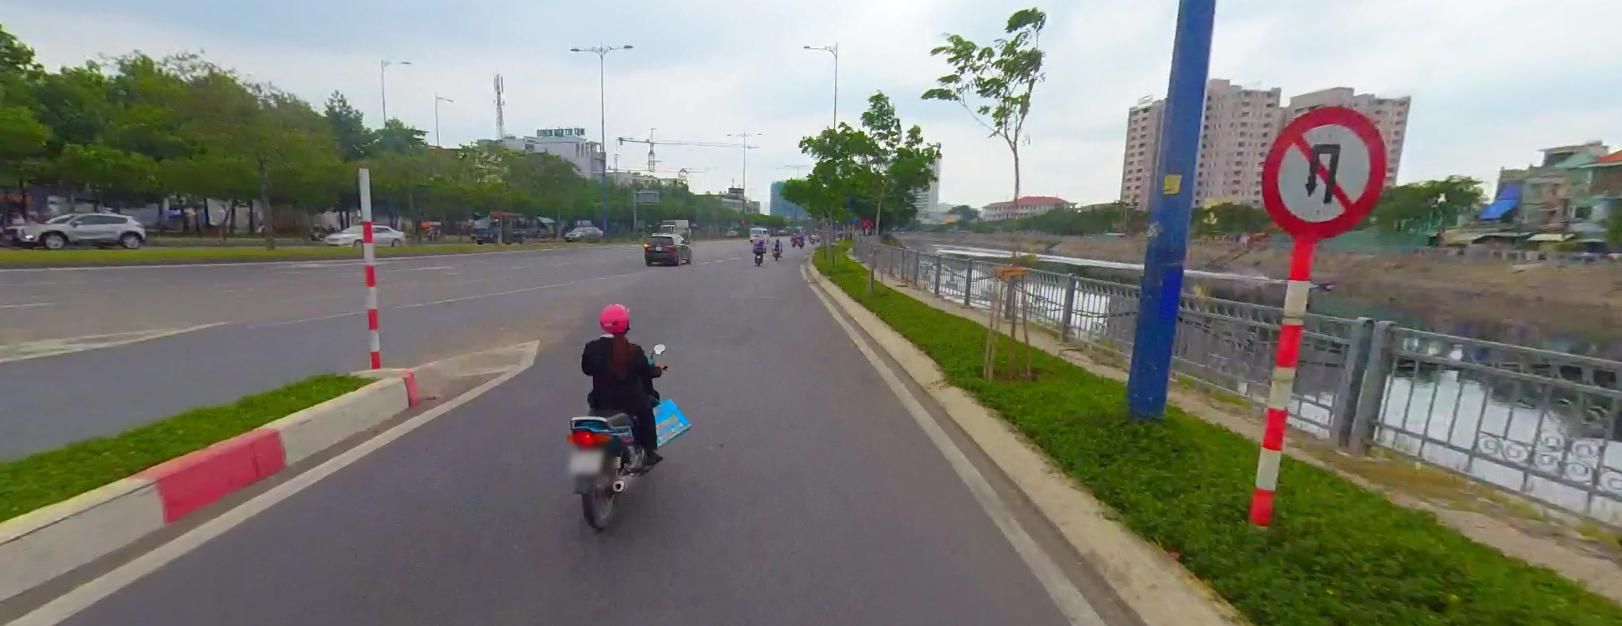Cam re: (1256, 100, 1391, 238)
